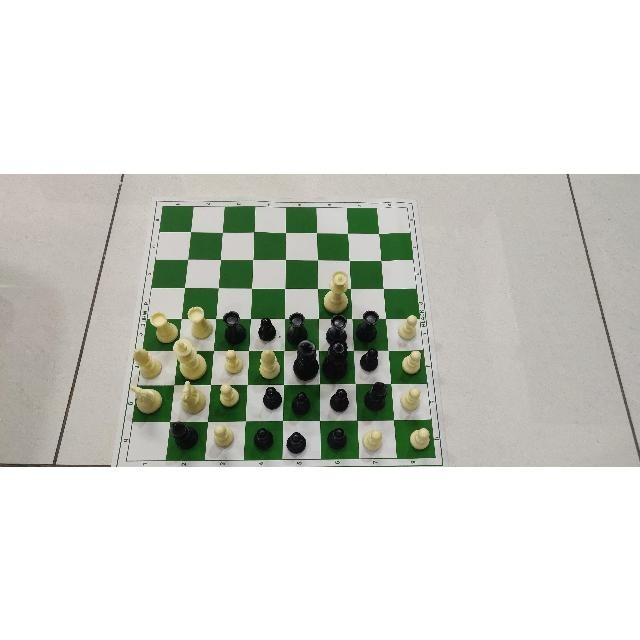black-bishop: (170, 420, 198, 449), (364, 382, 388, 412)
black-king: (293, 340, 317, 379)
black-pawn: (253, 425, 275, 452), (356, 346, 379, 370), (283, 428, 304, 454), (263, 382, 283, 409), (289, 389, 310, 414), (256, 314, 277, 339), (326, 388, 349, 410), (326, 426, 347, 450)
black-queen: (323, 341, 351, 381)
black-rook: (353, 308, 382, 343), (220, 310, 247, 345), (285, 309, 310, 340), (327, 313, 349, 339)
white-bishop: (130, 346, 161, 377), (259, 346, 284, 380)
white-king: (172, 340, 206, 375)
white-knight: (127, 381, 163, 413), (179, 379, 205, 415)
white-pawn: (398, 384, 421, 412), (398, 312, 418, 343), (362, 426, 384, 454), (218, 381, 241, 407), (224, 345, 244, 374), (410, 425, 431, 451), (402, 348, 423, 374), (214, 422, 234, 448)
white-queen: (327, 270, 349, 311)
white-rook: (148, 310, 176, 343), (186, 304, 210, 342)
